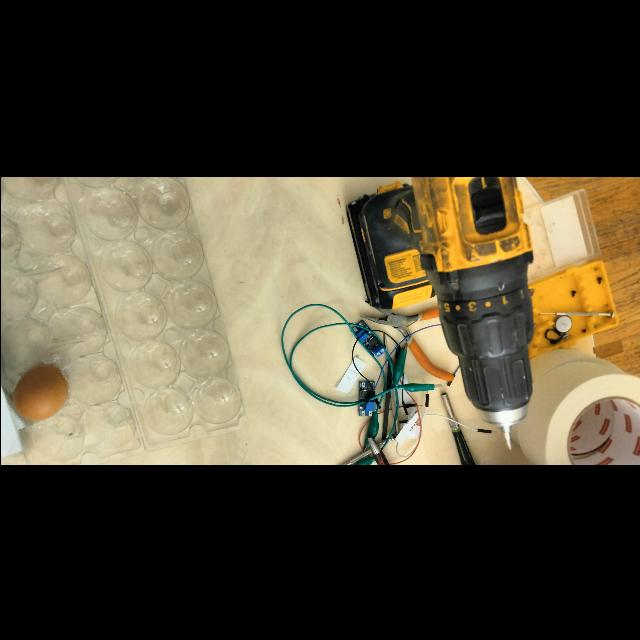Egg: (0, 358, 72, 424)
